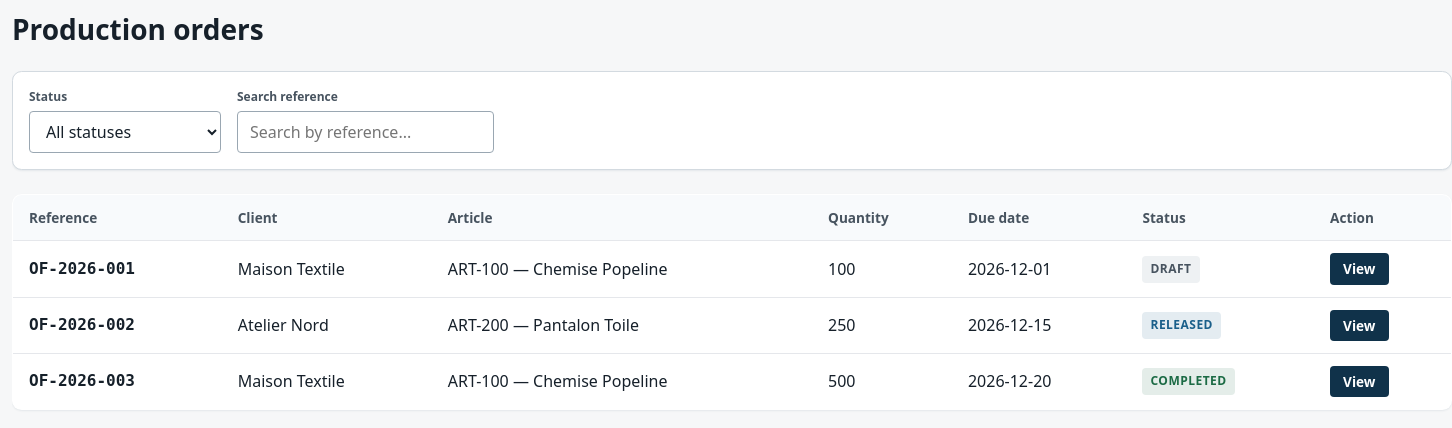
it: OrdersPage — Wave 2 › Filter orders by status
The image size is (1452, 428).
Expected: the text "OF-2026-001" is shown, [12,242,222,297]
Expected: the text "OF-2026-002" is shown, [12,297,222,353]
Select "RELEASED" in the dropdown named "Status filter" at (125,132), box [29,111,221,153]
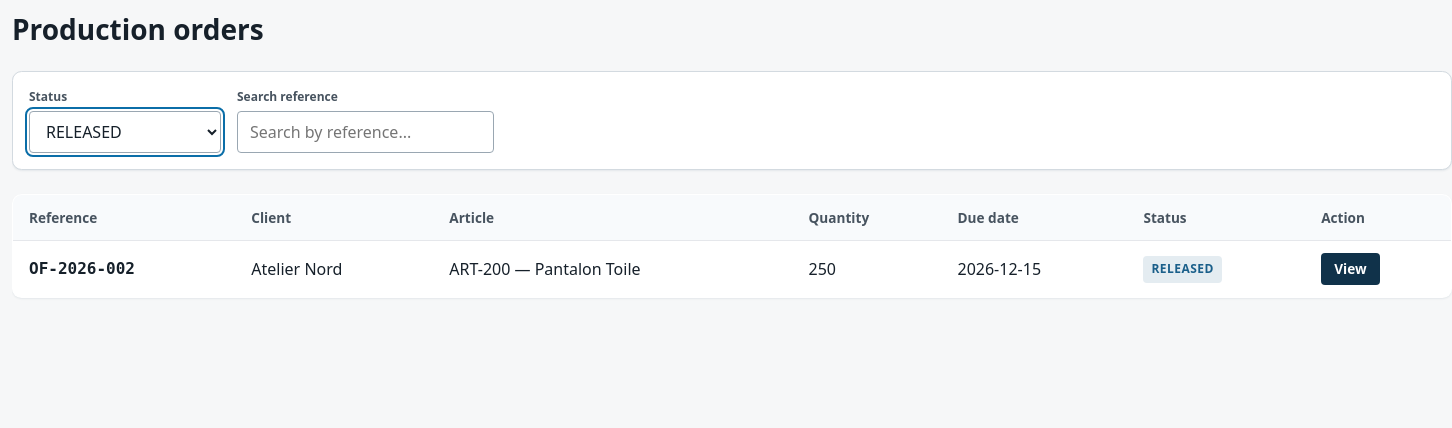
Expected: the text "OF-2026-002" is shown, [12,242,235,297]
Result: the text "OF-2026-001" is gone
Result: the text "OF-2026-003" is gone
